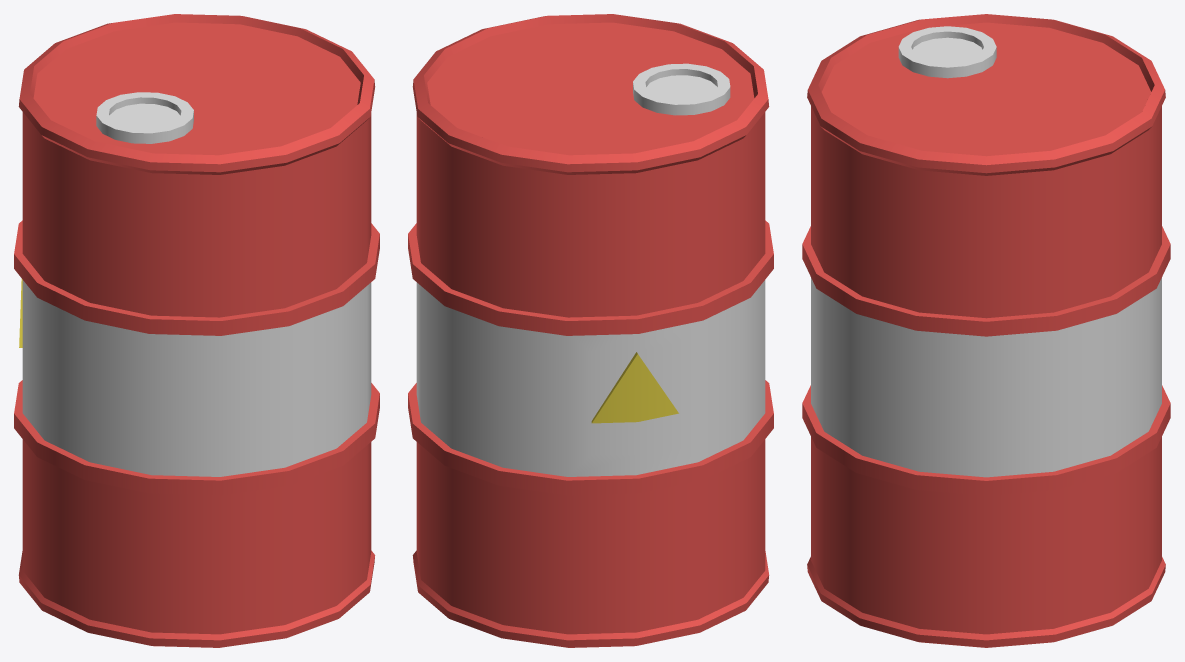
Rendered from barrel.fbx.
3 views of the same model, side by side, from view 1: azimuth 30°, elevation 25°; view 2: azimuth 150°, elevation 25°; view 3: azimuth 270°, elevation 25° (orthographic).
Parts seen in each view (by area): view 1: Barrel; view 2: Barrel; view 3: Barrel.
Part boxes in pixels (box(x1,y1,x2,y2)): Barrel: box(14, 14, 379, 647); Barrel: box(408, 14, 773, 647); Barrel: box(802, 14, 1170, 647).
Size of the model in its own units: 210 by 311 by 210.
